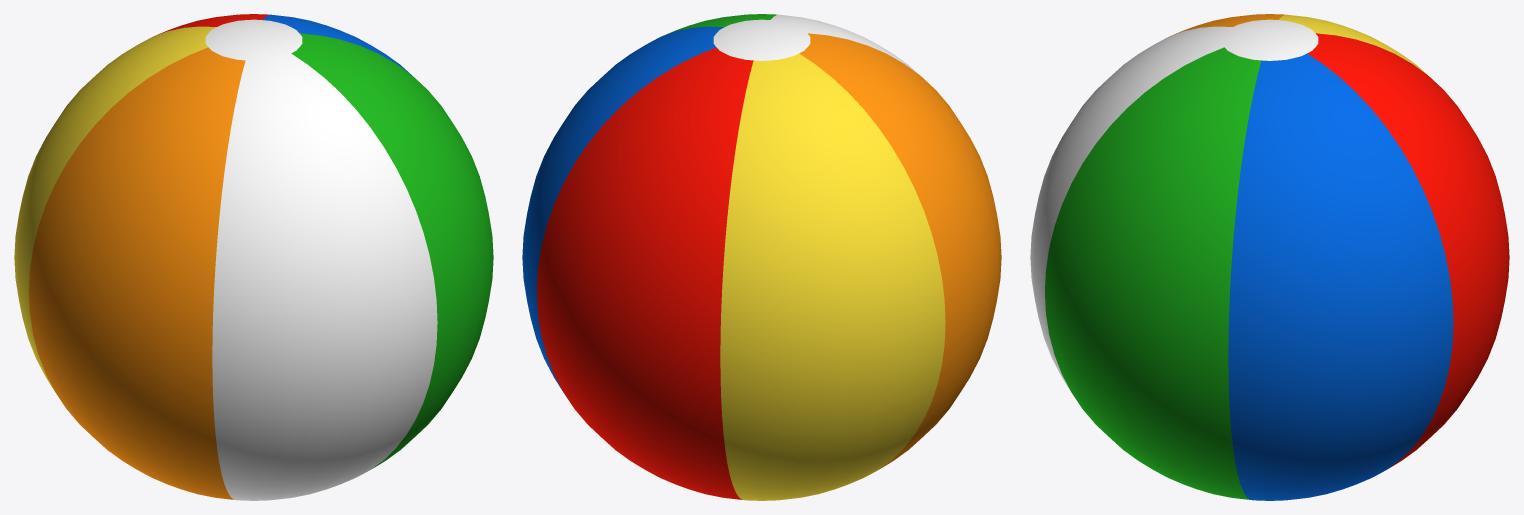
File: beachball_2.fbx
3 renders of one model, left to right at view 1: azimuth 30°, elevation 25°; view 2: azimuth 150°, elevation 25°; view 3: azimuth 270°, elevation 25°, orthographic.
Visible parts, largest first — view 1: Sphere; view 2: Sphere; view 3: Sphere.
Boxes of the visible parts, bbox=[...] form: Sphere: bbox=[14, 14, 493, 500]; Sphere: bbox=[522, 14, 1001, 500]; Sphere: bbox=[1030, 14, 1509, 500].
Bounding box in the file's own units: 68.15 × 69.73 × 68.15.
